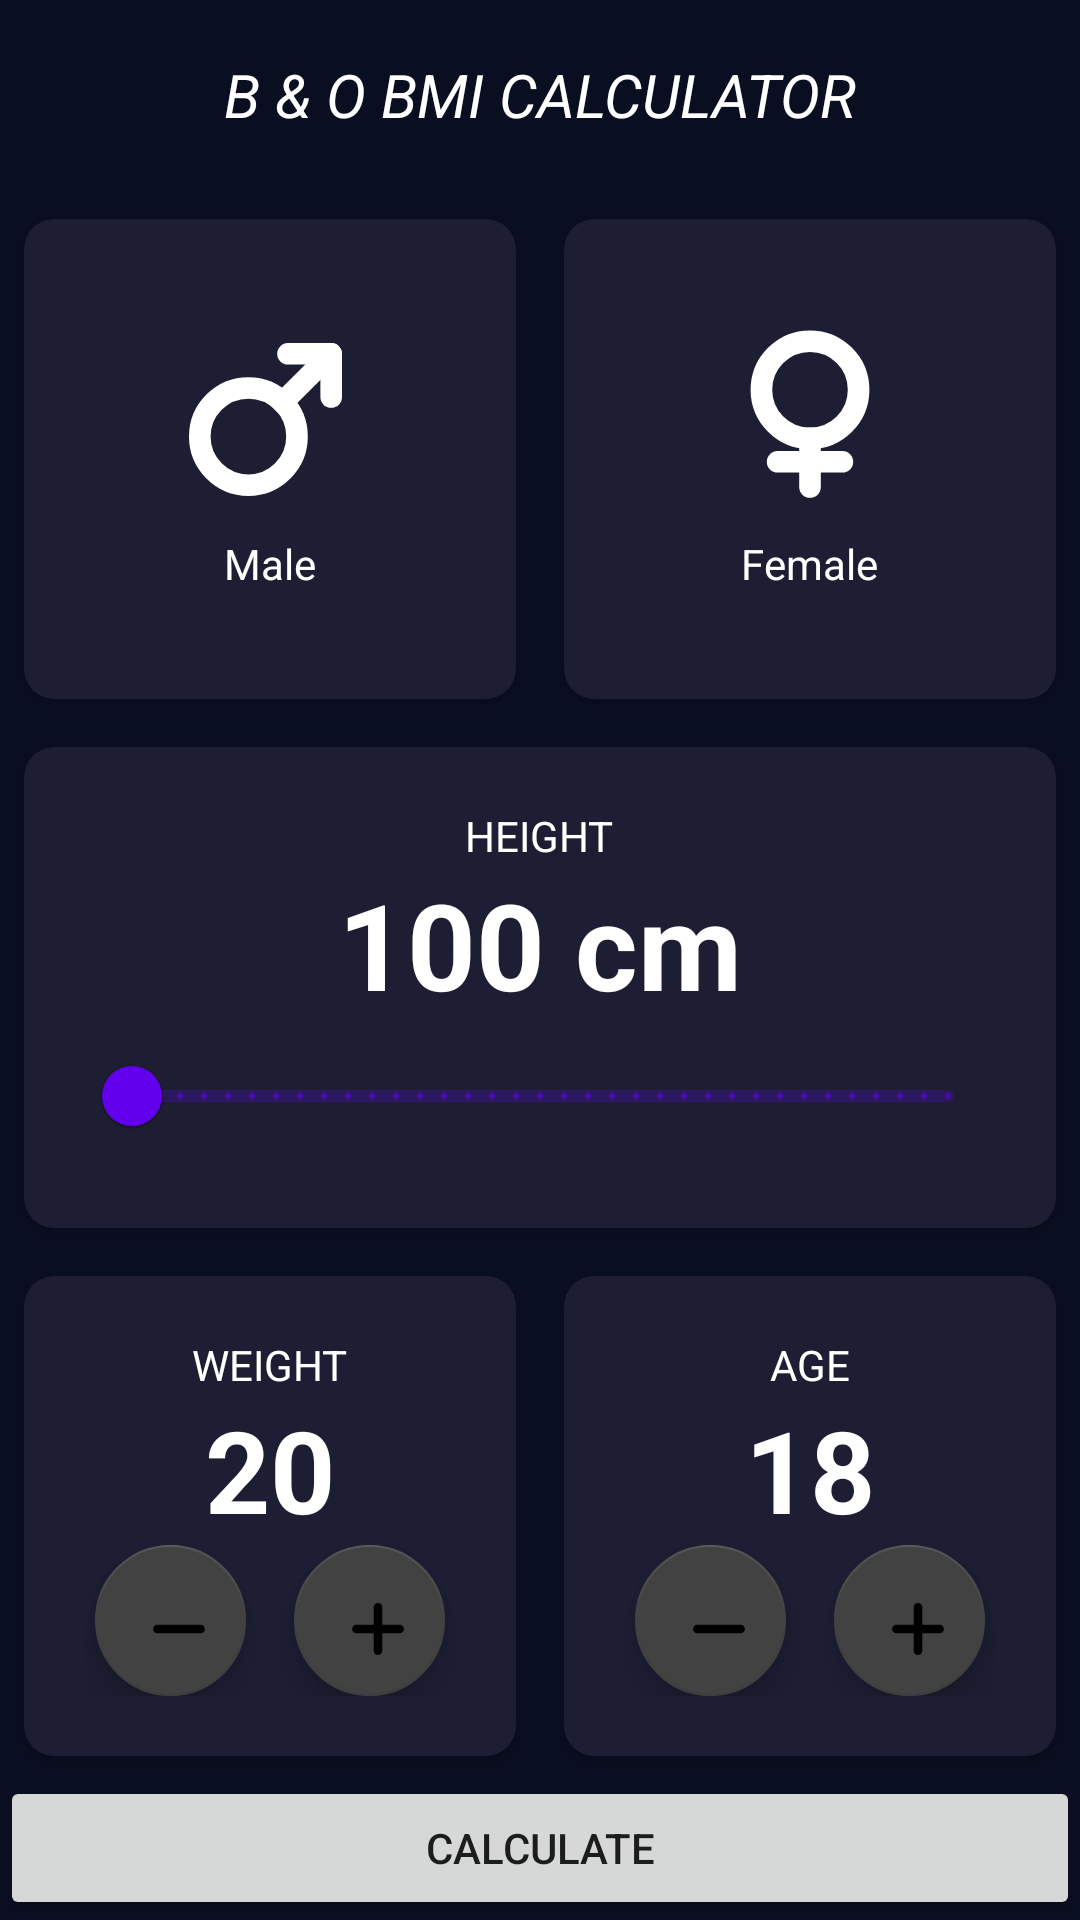

Point at icon controls on the screen. Image size 1080w x 1920h, points as (x,y).
minus: (170,1620), (710,1620)
plus: (369,1620), (909,1620)
